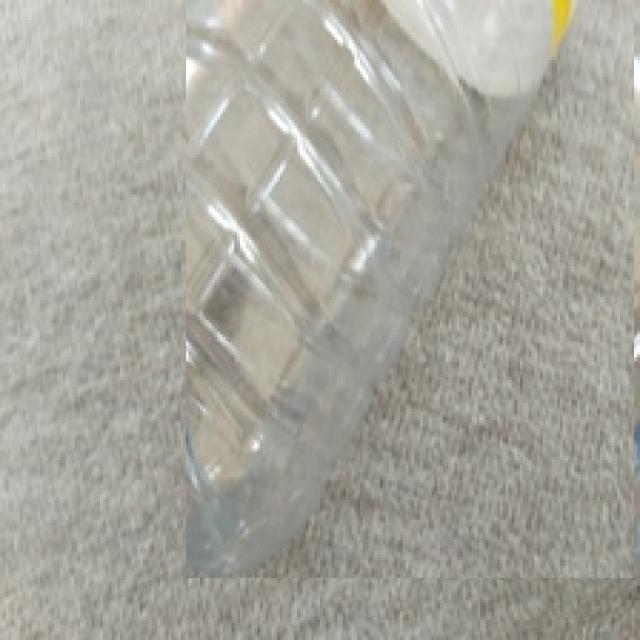BIODEGRADABLE: (186, 0, 634, 578)
